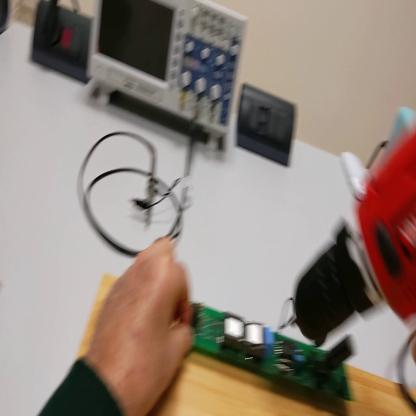electric screwdriver: (287, 131, 416, 355)
hand: (91, 234, 196, 414)
high voltage board: (191, 302, 366, 405)
oscilloscope: (86, 1, 252, 154)
oscilloscope probe tip: (143, 152, 162, 228)
socket: (29, 2, 94, 87), (2, 3, 13, 35)
welder station: (386, 106, 416, 154)
working area: (79, 270, 416, 415)
